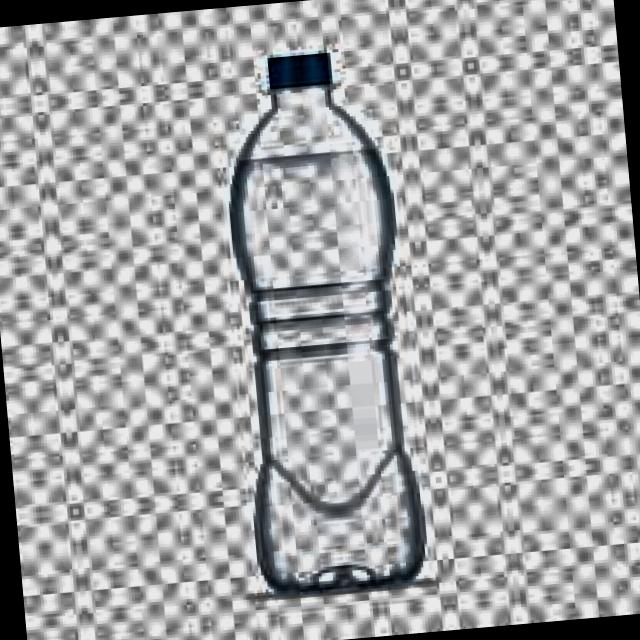plastic bottle: (231, 53, 423, 592)
